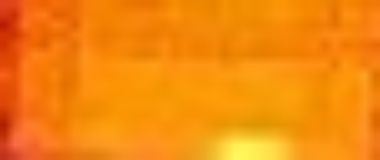Hotspot: (211, 124, 293, 160)
